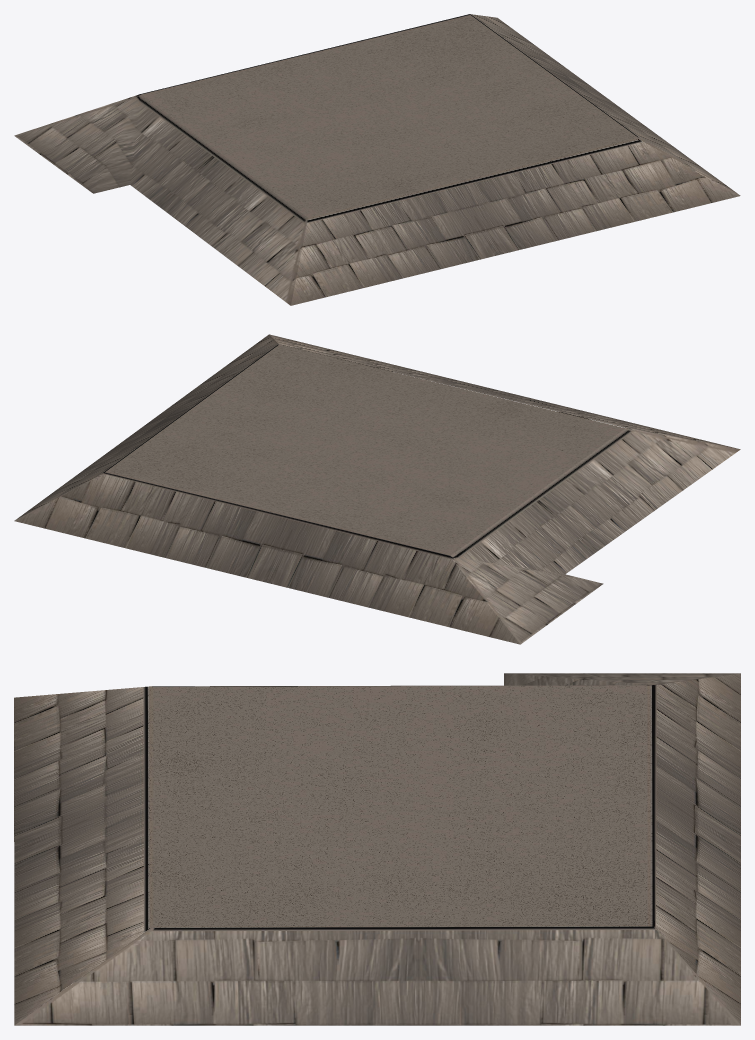
File: roof.glb
The picture shows the model from 3 angles, top to bottom: view 1: azimuth 30°, elevation 25°; view 2: azimuth 150°, elevation 25°; view 3: azimuth 270°, elevation 25°; orthographic projection. The views are drawn at different scales.
Visible parts, largest first — view 1: roof.001; view 2: roof.001; view 3: roof.001.
Boxes of the visible parts, box(x1,y1,x2,y2) form: roof.001: box(14, 14, 740, 305); roof.001: box(14, 334, 740, 644); roof.001: box(14, 673, 740, 1025).
Size of the model in its own units: 32.65 by 2.54 by 28.5.
7 materials, 1 textured.
